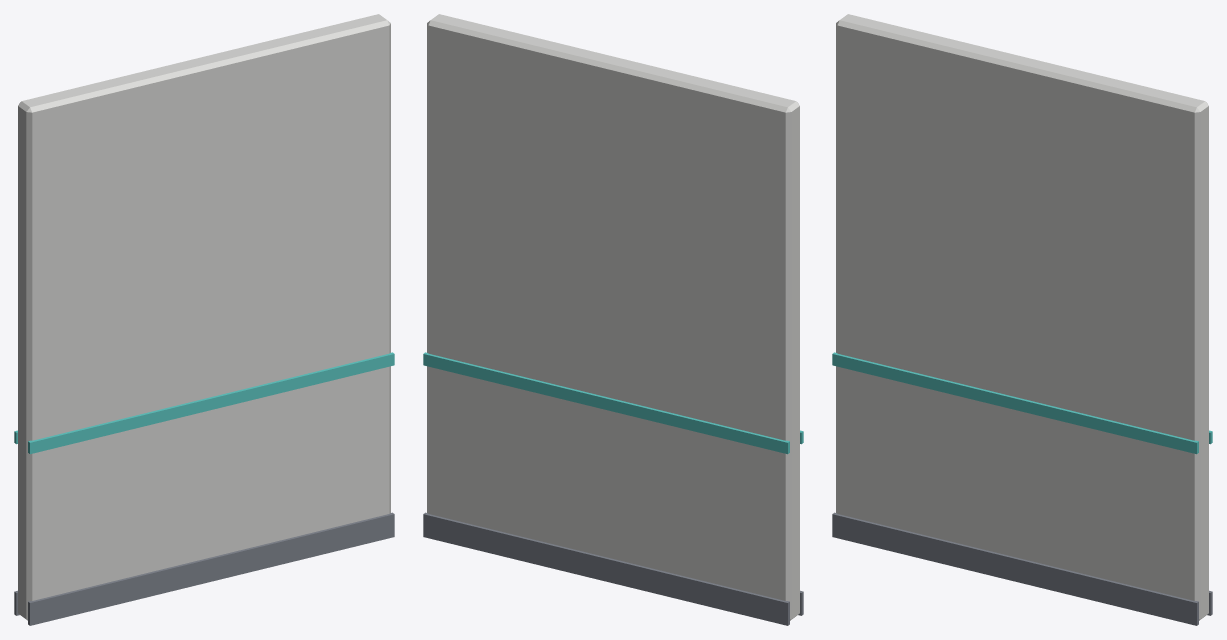
File: ct-room-wall.glb
3 renders of one model, left to right at view 1: azimuth 30°, elevation 25°; view 2: azimuth 150°, elevation 25°; view 3: azimuth 330°, elevation 25°, orthographic.
Visible parts, largest first — view 1: partition-wall; view 2: partition-wall; view 3: partition-wall.
Boxes of the visible parts, bbox=[...] form: partition-wall: bbox=[14, 14, 394, 625]; partition-wall: bbox=[423, 14, 803, 625]; partition-wall: bbox=[832, 14, 1212, 625].
Size of the model in its own units: 2 by 2.7 by 0.1499.
